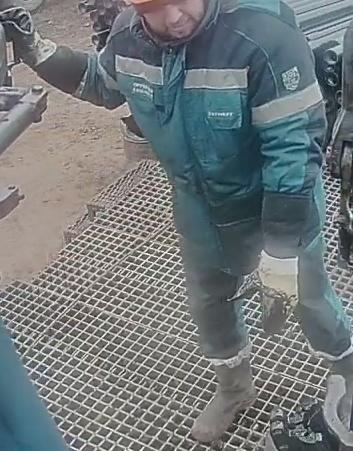gloves: (226, 242, 301, 334), (0, 6, 58, 68)
vest: (97, 0, 326, 275)
